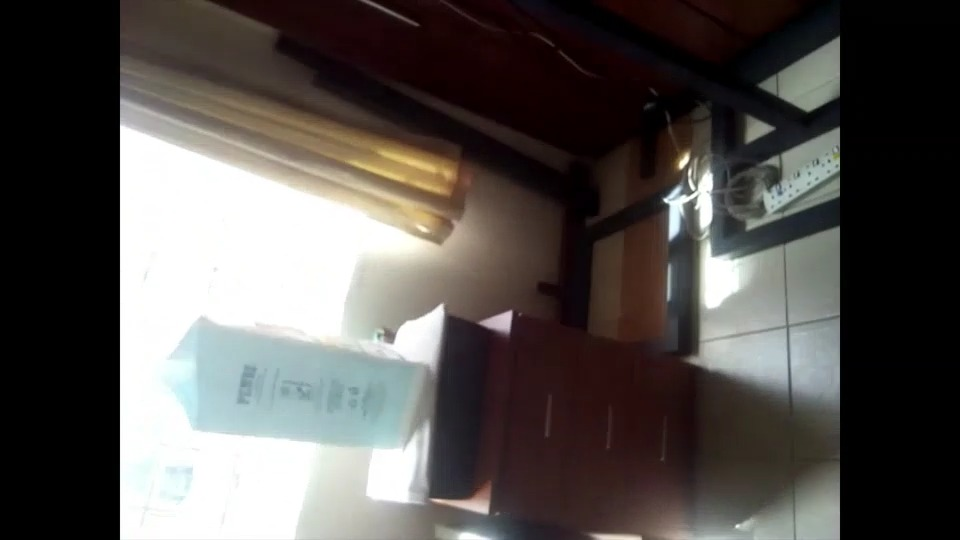wheat_flour_blue_label: (178, 315, 424, 452), (230, 452, 424, 540)
